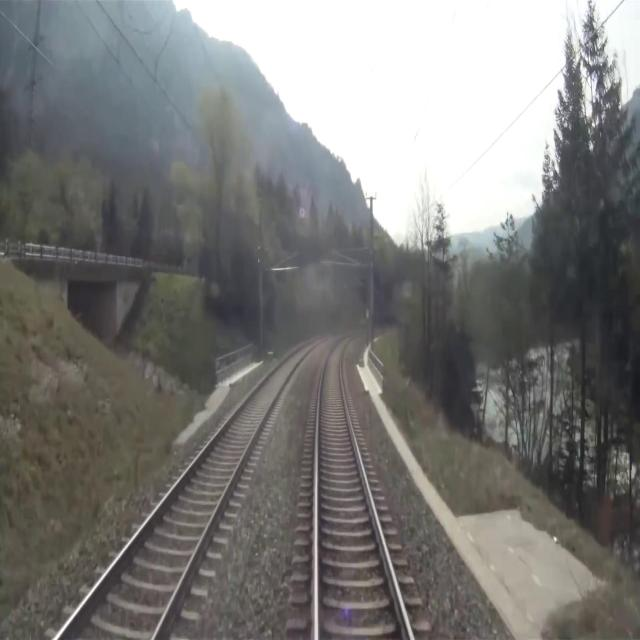rail-track: (59, 344, 312, 639), (319, 340, 409, 639)
